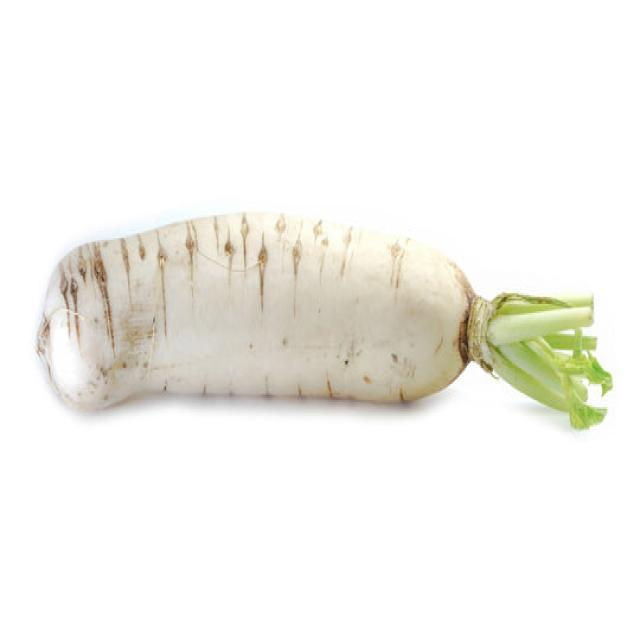Radish: (34, 210, 612, 428)
